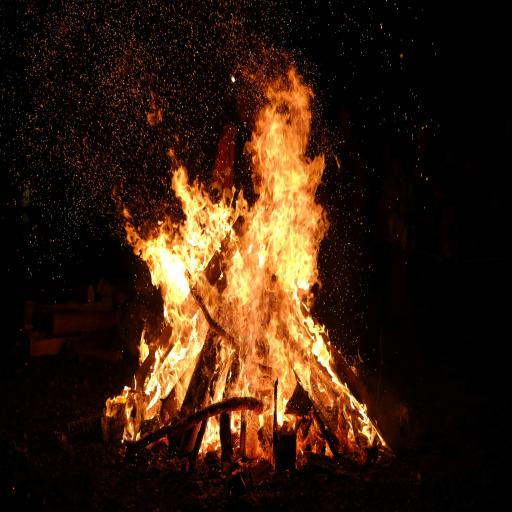campfire: (65, 43, 437, 445)
